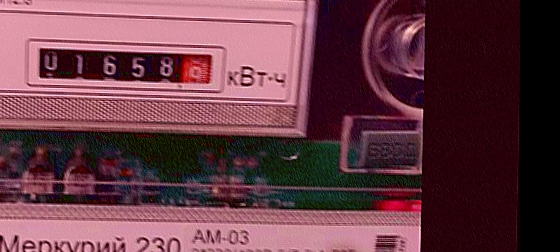0: (42, 50, 59, 71)
1: (72, 52, 86, 76)
5: (130, 55, 146, 79)
6: (101, 53, 119, 78)
8: (158, 55, 175, 78)
9: (187, 64, 203, 85)
screen: (22, 36, 230, 98)
